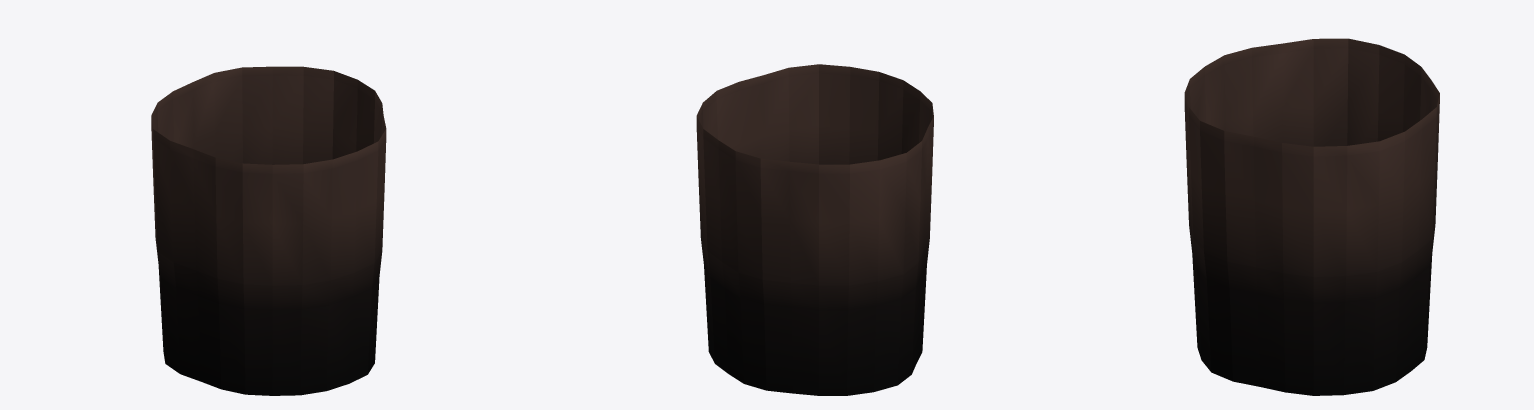
The model's file is pit_burrow.obj.
3 views of the same model, side by side, from view 1: azimuth 30°, elevation 25°; view 2: azimuth 150°, elevation 25°; view 3: azimuth 270°, elevation 25° (orthographic). The views are drawn at different scales.
Parts seen in each view (by area): view 1: pit_burrow_b7_pit_shaft; view 2: pit_burrow_b7_pit_shaft; view 3: pit_burrow_b7_pit_shaft.
Part boxes in pixels (x1,y1,x2,y2): pit_burrow_b7_pit_shaft: [151, 66, 386, 395]; pit_burrow_b7_pit_shaft: [696, 64, 933, 395]; pit_burrow_b7_pit_shaft: [1184, 38, 1439, 395].
Size of the model in its own units: 3.05 by 2.08 by 3.05.
